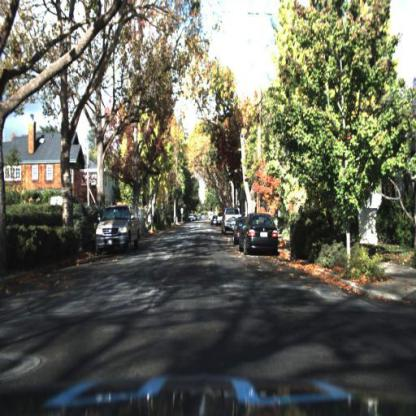car: (96, 202, 140, 254), (238, 207, 280, 250), (220, 202, 243, 236), (232, 218, 243, 250), (224, 210, 235, 237), (211, 214, 219, 228)
